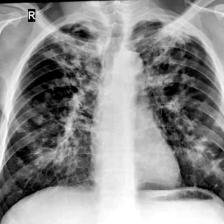tuberculosis: (1, 13, 224, 224)
